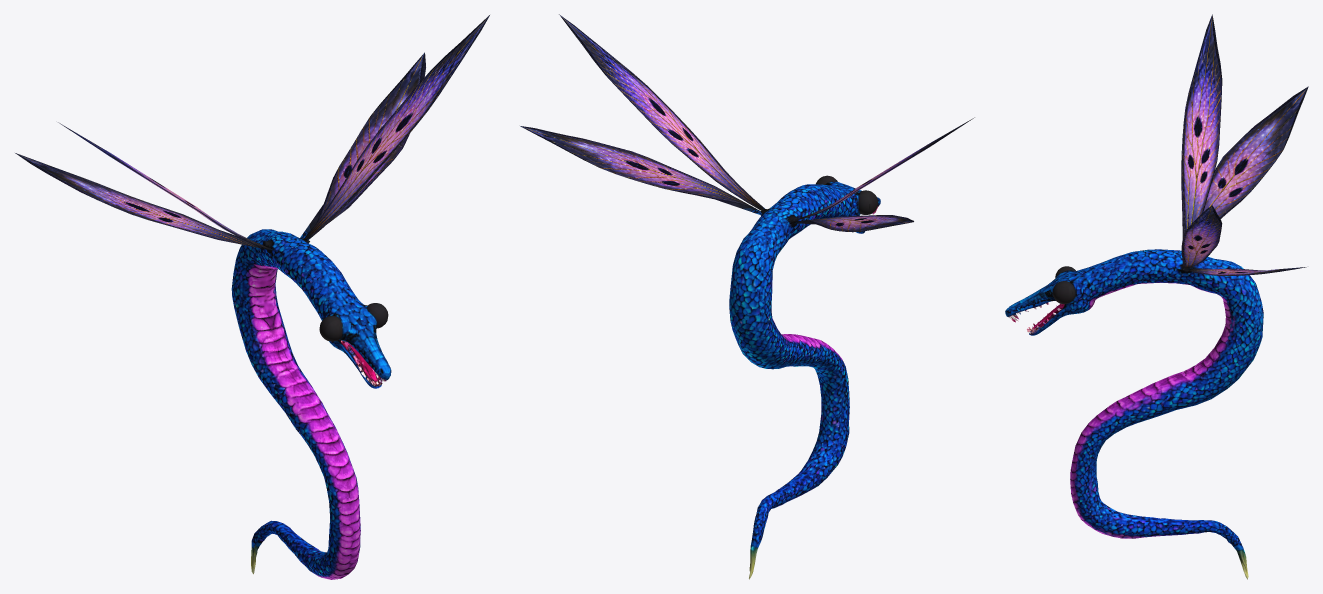
Rendered from mm9_deco_dragonflyfigure.glb.
3 views of the same model, side by side, from view 1: azimuth 30°, elevation 25°; view 2: azimuth 150°, elevation 25°; view 3: azimuth 270°, elevation 25° (orthographic). The views are drawn at different scales.
Parts seen in each view (by area): view 1: dragonflyfigure; view 2: dragonflyfigure; view 3: dragonflyfigure.
Boxes of the visible parts, left/top/right/bottom form: dragonflyfigure: left=15, top=15, right=489, bottom=579; dragonflyfigure: left=520, top=14, right=974, bottom=579; dragonflyfigure: left=1005, top=14, right=1308, bottom=579.
Size of the model in its own units: 1.15 by 1.31 by 0.7688.
2 materials, 2 textured.
